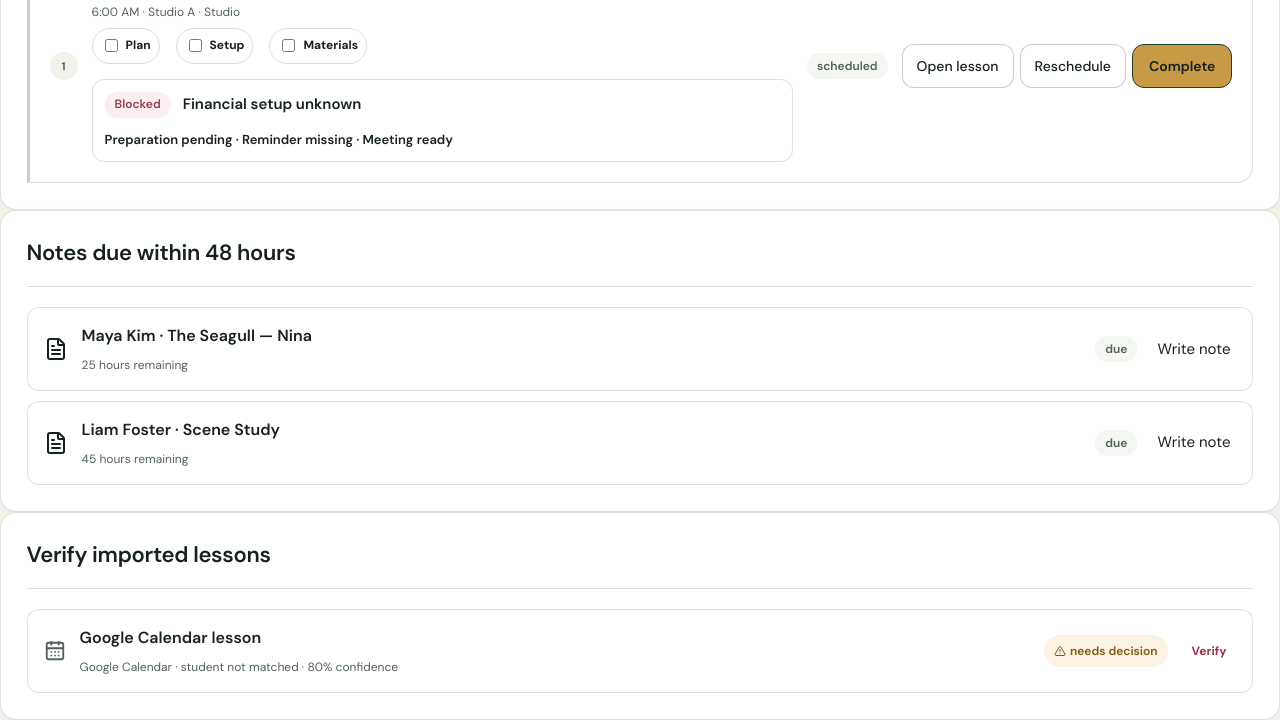
it: content disclosure and decision context › keeps import consequences visible even when the provider has no date
(page scrolled)
Click the button "Verify": x=1209, y=651 [1182,633,1236,669]
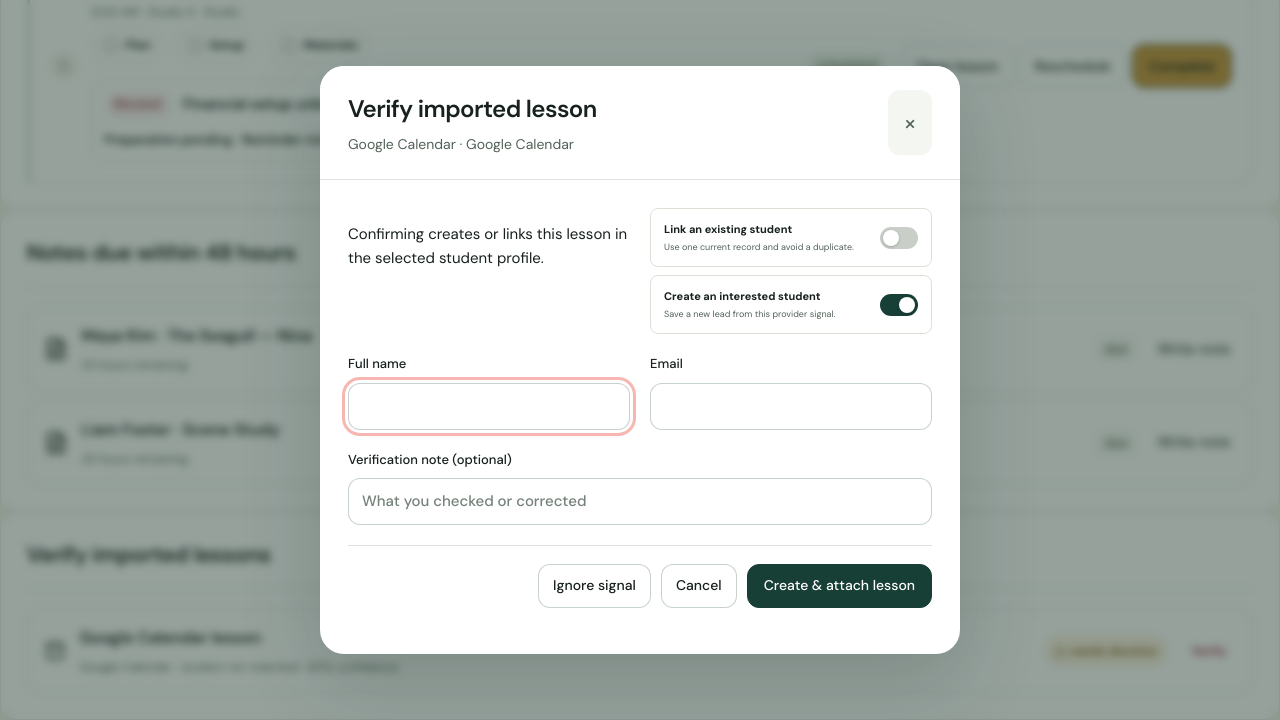
expect the dialog shows "Confirming creates or links this lesson in the selected student profile.": met, box [348,224,627,268]
